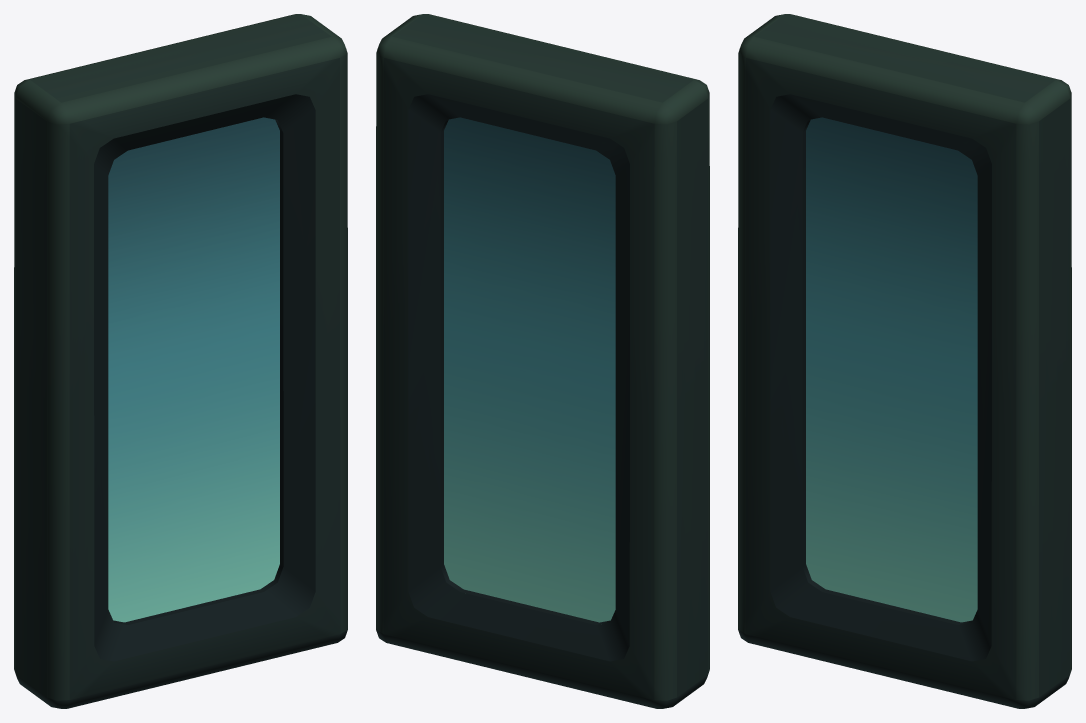
Rendered from window_dark1_LOD_setup.fbx.
The picture shows the model from 3 angles, left to right: view 1: azimuth 30°, elevation 25°; view 2: azimuth 150°, elevation 25°; view 3: azimuth 330°, elevation 25°; orthographic projection.
Visible parts, largest first — view 1: window_dark1_LOD0; view 2: window_dark1_LOD0; view 3: window_dark1_LOD0.
Boxes of the visible parts, x1,y1,x2,y2 form: window_dark1_LOD0: [14, 14, 347, 708]; window_dark1_LOD0: [376, 14, 709, 708]; window_dark1_LOD0: [738, 14, 1071, 708].
Size of what is drawn, in the model's own units: 104 by 202 by 28.91.
